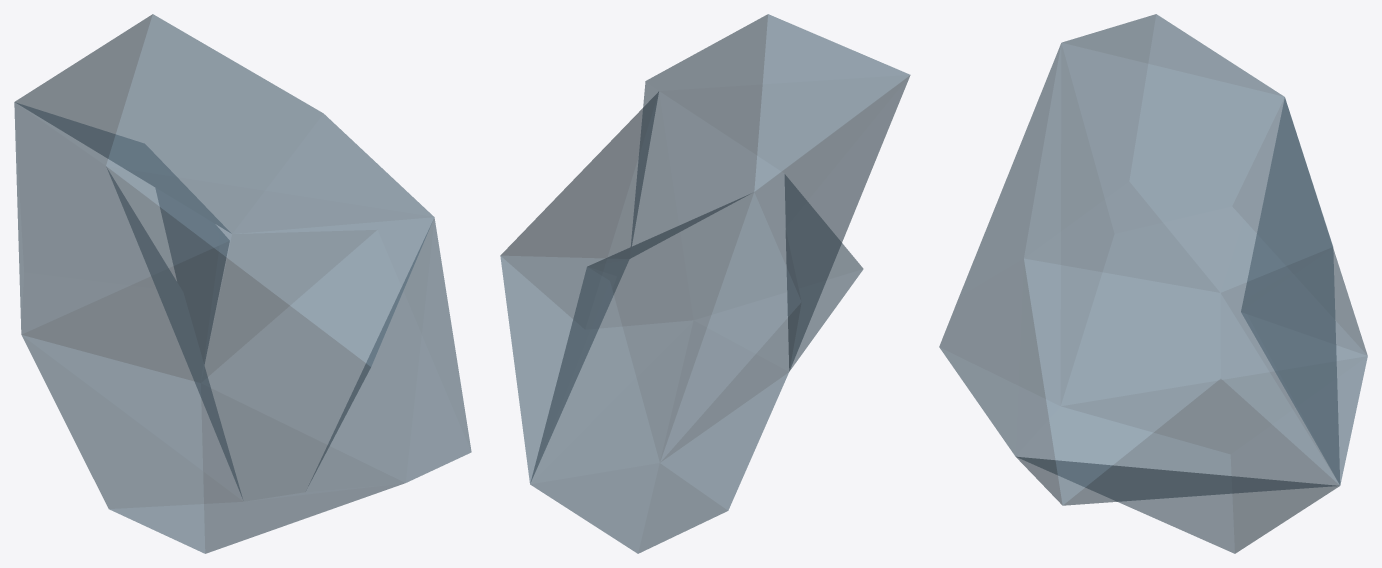
Rendered from particle2.dae.
The picture shows the model from 3 angles, left to right: view 1: azimuth 30°, elevation 25°; view 2: azimuth 150°, elevation 25°; view 3: azimuth 270°, elevation 25°; orthographic projection. The views are drawn at different scales.
Visible parts, largest first — view 1: Platonic.3; view 2: Platonic.3; view 3: Platonic.3.
Part boxes in pixels (x1,y1,x2,y2): Platonic.3: (14, 14, 471, 553); Platonic.3: (500, 14, 910, 553); Platonic.3: (939, 14, 1367, 553).
Size of the model in its own units: 163 by 254 by 198.
